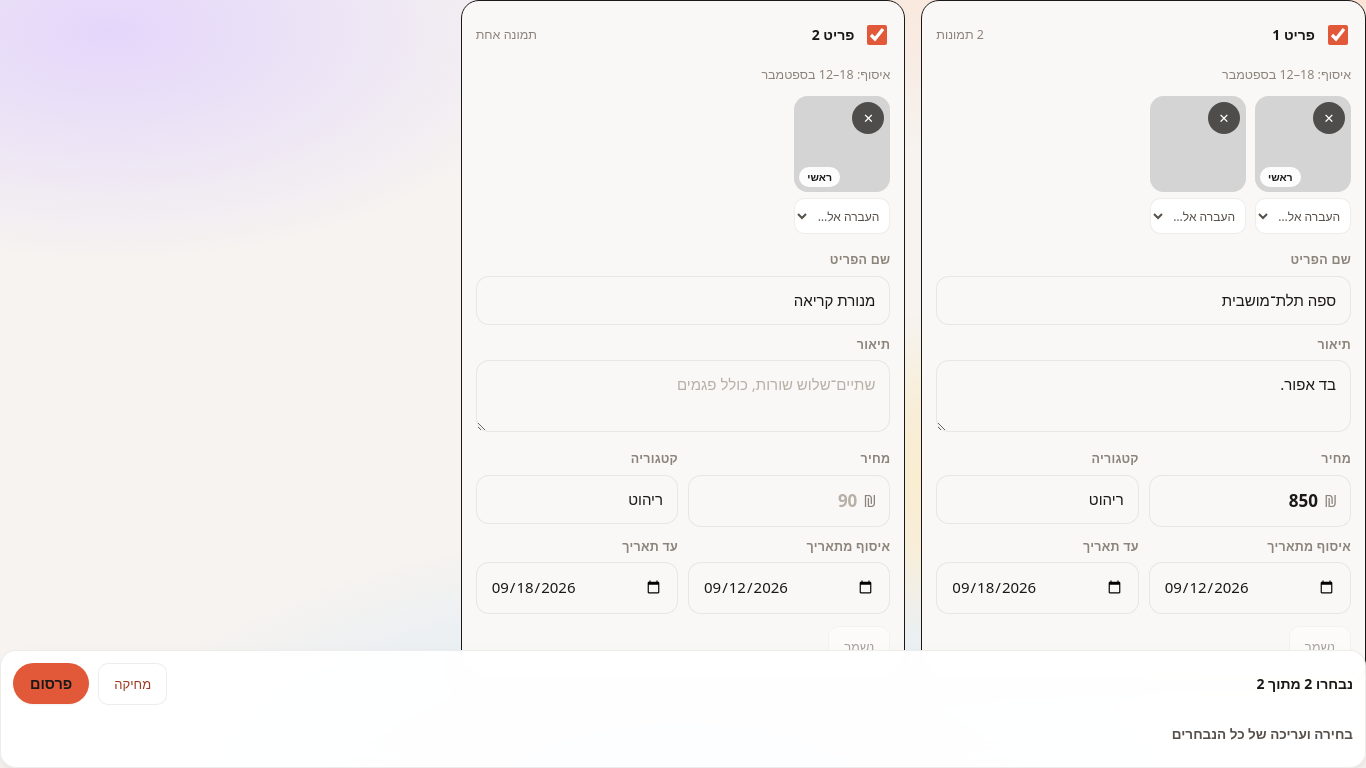
the import review screen › moves a photo onto a brand new item and shows it as a card
Select "פריט חדש" in the 3rd dropdown named "העברת התמונה לפריט" at (1303, 216), box [1255,198,1351,234]
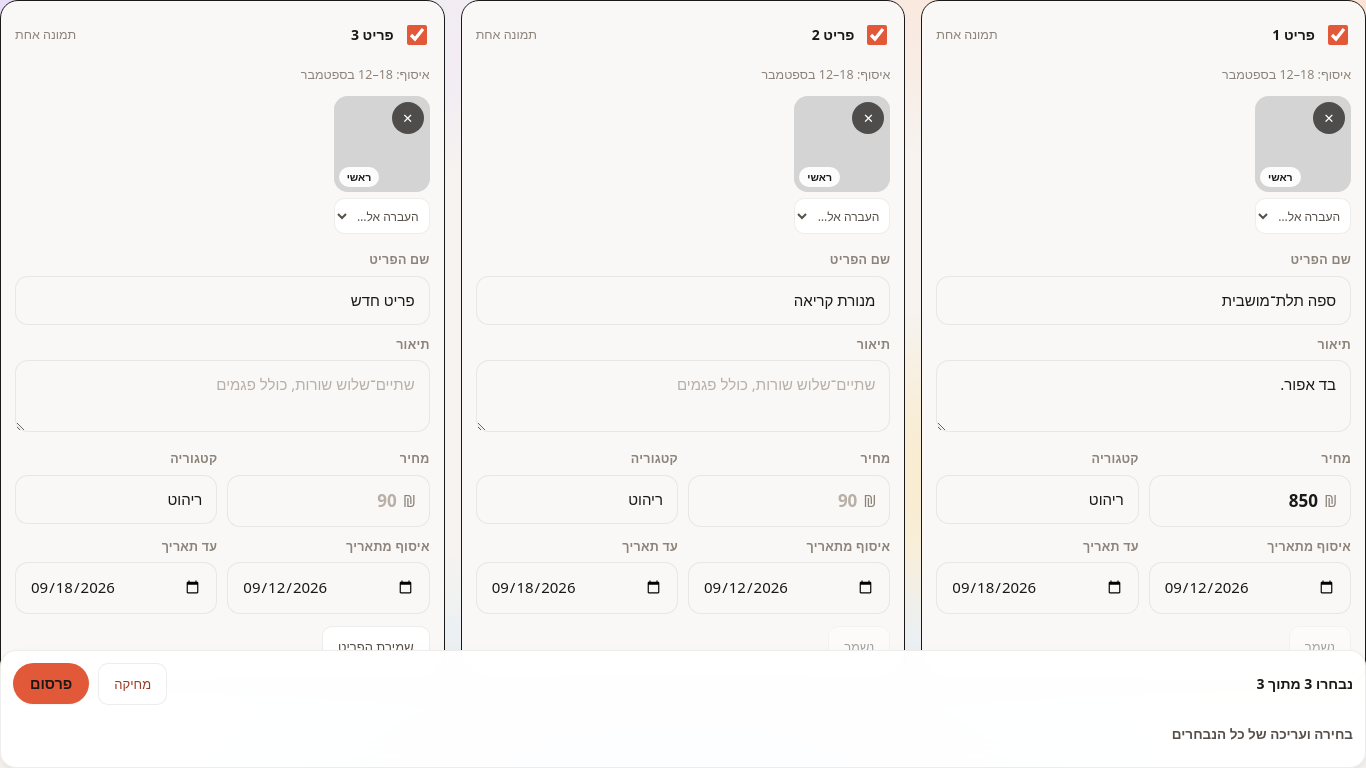
expect the checkbox labelled "פריט 3" is shown: met, box [407,25,427,45]
